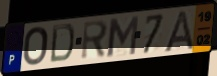7: (143, 12, 166, 55)
A: (161, 9, 195, 54)
D: (48, 23, 76, 65)
M: (106, 14, 141, 59)
O: (22, 25, 50, 67)
R: (80, 19, 110, 62)
